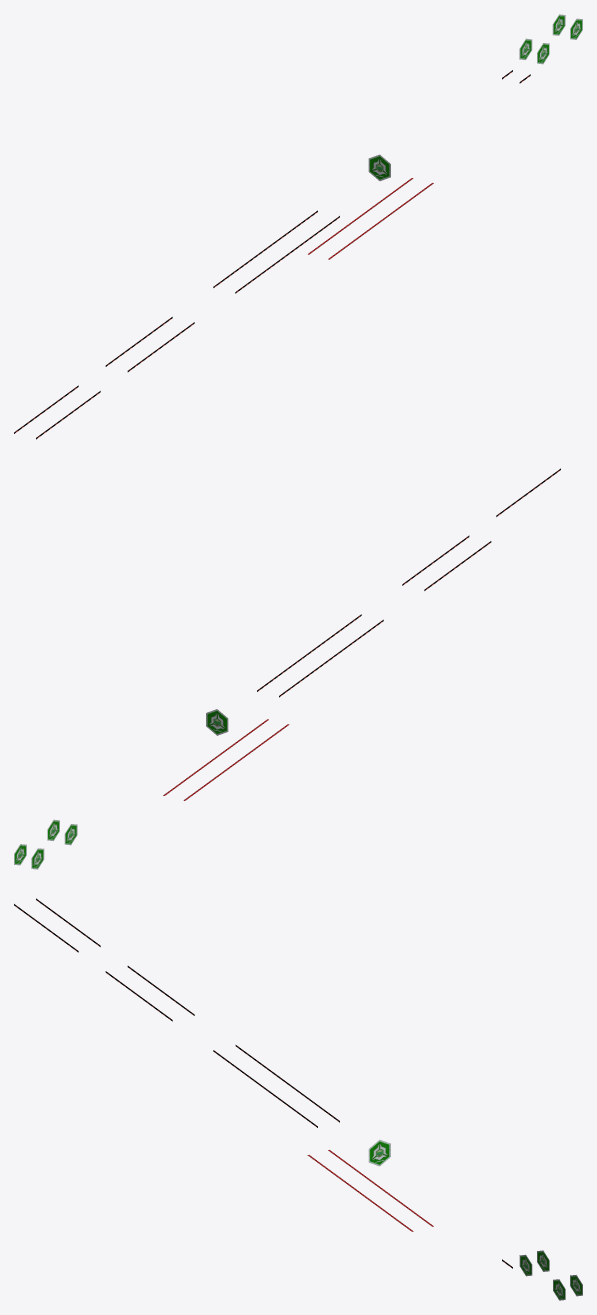
3 views of the same model, one above another, from view 1: azimuth 30°, elevation 25°; view 2: azimuth 210°, elevation 25°; view 3: azimuth 270°, elevation 25° (orthographic).
Visible parts, largest first — view 1: s03_k_04_2, s03_k_04_0; view 2: s03_k_04_2, s03_k_04_0; view 3: s03_k_04_2, s03_k_04_0.
Boxes of the visible parts, x1,y1,x2,y2 form: s03_k_04_2: (368, 14, 582, 180); s03_k_04_0: (14, 70, 530, 439); s03_k_04_2: (14, 709, 228, 869); s03_k_04_0: (257, 468, 560, 697); s03_k_04_2: (368, 1139, 582, 1300); s03_k_04_0: (14, 898, 512, 1268).
Bounding box in the file's own units: 3764 × 251 × 2221.
